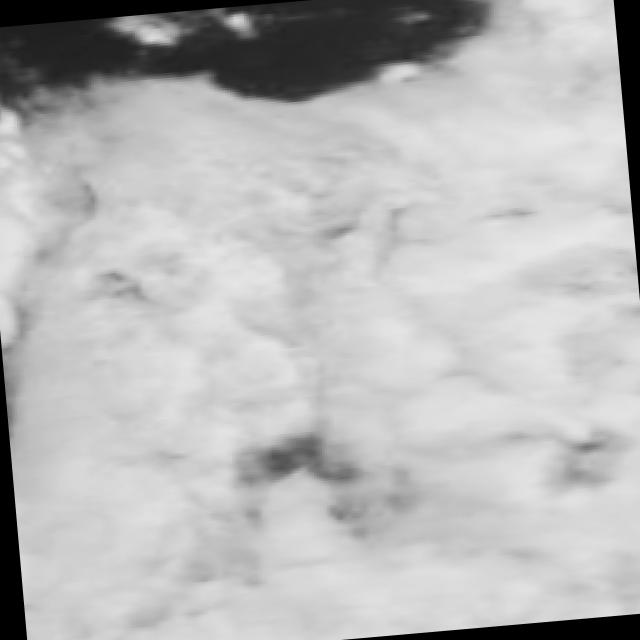CB: (6, 332, 263, 569), (240, 211, 510, 430), (389, 72, 636, 289), (0, 122, 235, 350), (270, 463, 526, 640), (208, 94, 435, 279), (451, 409, 640, 628), (16, 497, 269, 640), (481, 250, 640, 467)
